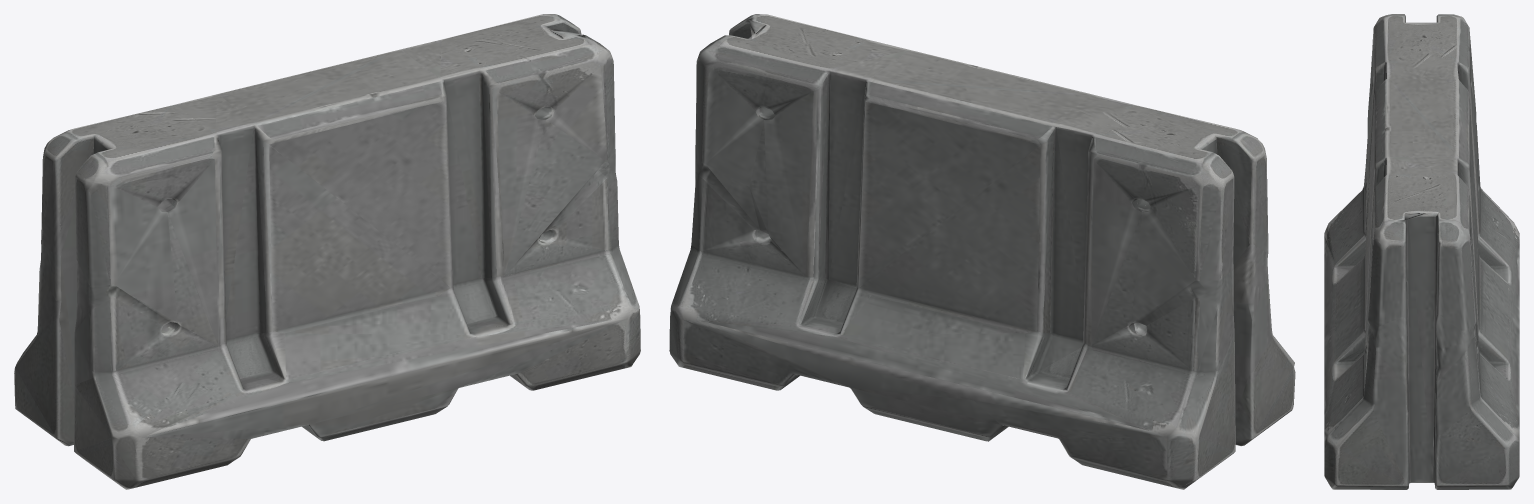
The model's file is barrier_concrete.glb.
3 views of the same model, side by side, from view 1: azimuth 30°, elevation 25°; view 2: azimuth 150°, elevation 25°; view 3: azimuth 270°, elevation 25° (orthographic). The views are drawn at different scales.
Visible parts, largest first — view 1: barrier_concrete; view 2: barrier_concrete; view 3: barrier_concrete.
Part boxes in pixels (x1,y1,x2,y2): barrier_concrete: (14, 14, 640, 489); barrier_concrete: (669, 14, 1295, 489); barrier_concrete: (1324, 14, 1519, 489).
Size of the model in its own units: 1.09 by 0.6 by 0.4.
Materials: 1 (1 with a texture image).
